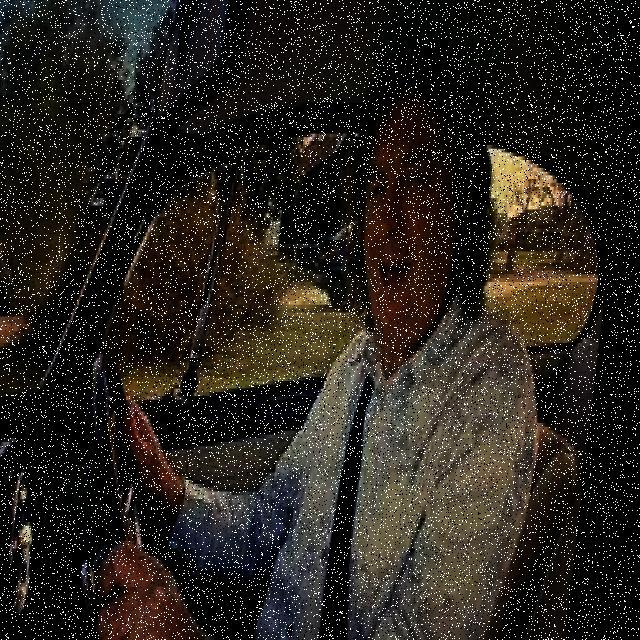seatbelt: (286, 334, 458, 634)
